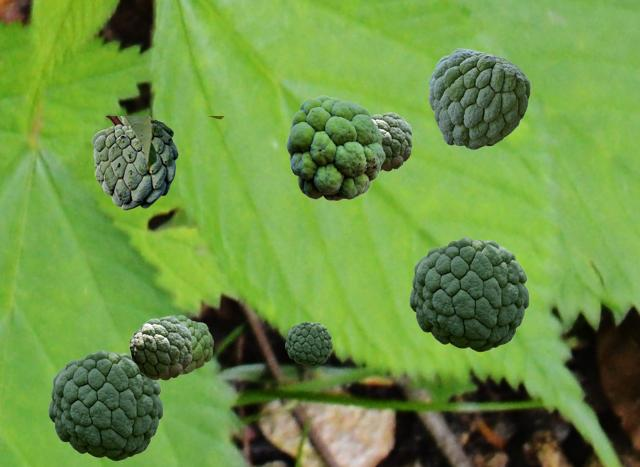atis: (409, 237, 528, 351), (48, 350, 162, 460), (91, 116, 223, 209), (286, 95, 384, 200), (428, 48, 529, 148), (129, 316, 191, 379), (169, 315, 212, 373), (372, 112, 411, 170), (285, 321, 331, 365)
